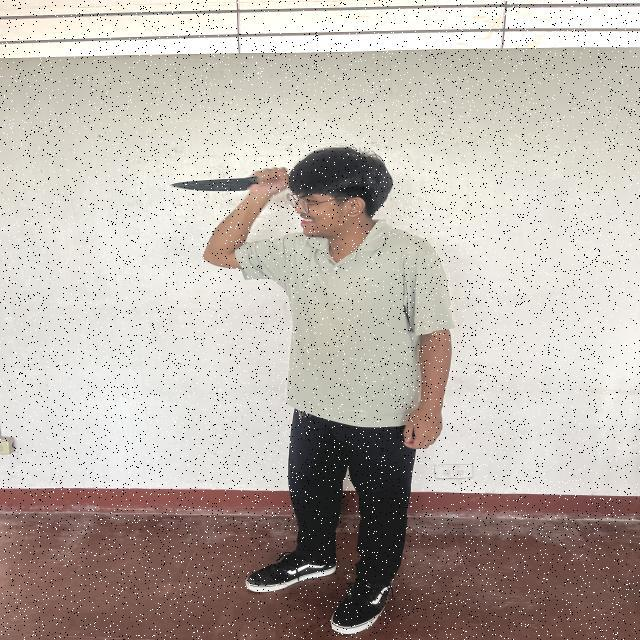knife: (172, 172, 282, 191)
non-violence: (173, 152, 453, 632)
